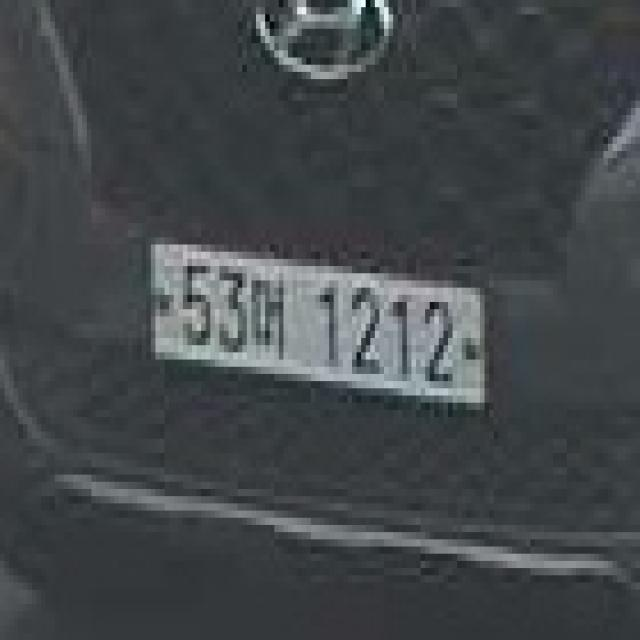1: (302, 266, 347, 367), (380, 288, 420, 374)
2: (343, 266, 388, 381), (421, 295, 462, 381)
3: (215, 245, 247, 366)
5: (174, 259, 210, 352)
license_plate: (142, 230, 494, 424)
meo: (242, 274, 284, 352)
